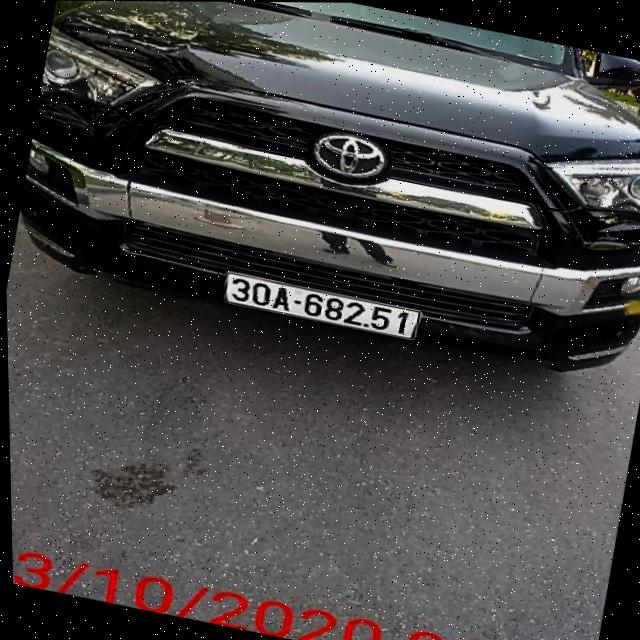car: (3, 0, 640, 401)
plate: (213, 262, 431, 350)
